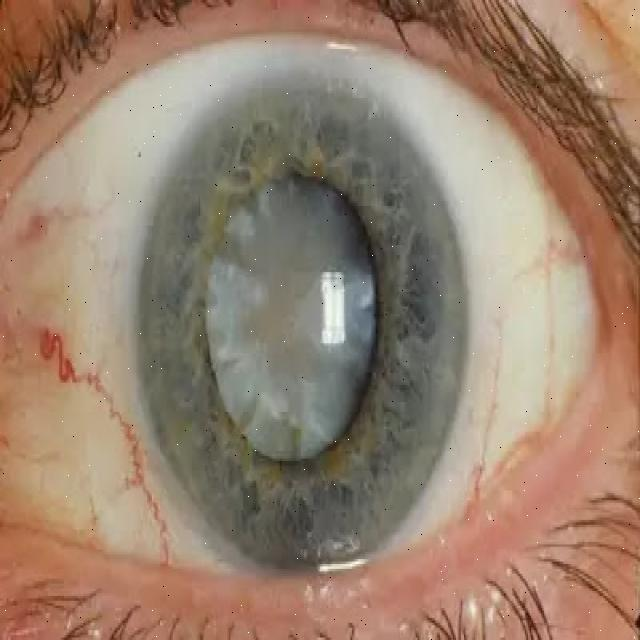Cataract: (133, 70, 469, 593)
